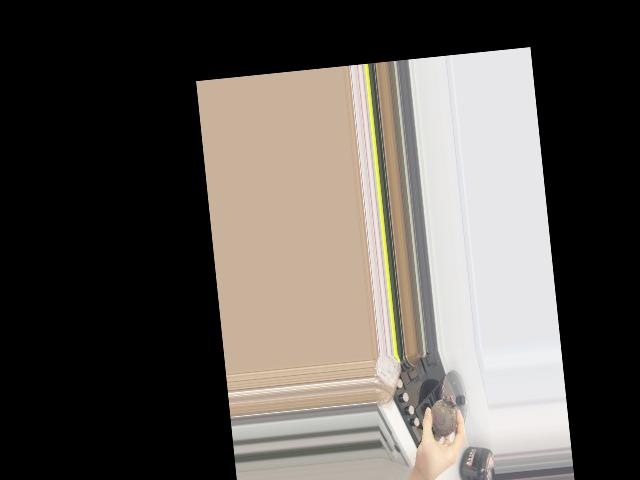beet: (429, 394, 458, 439)
